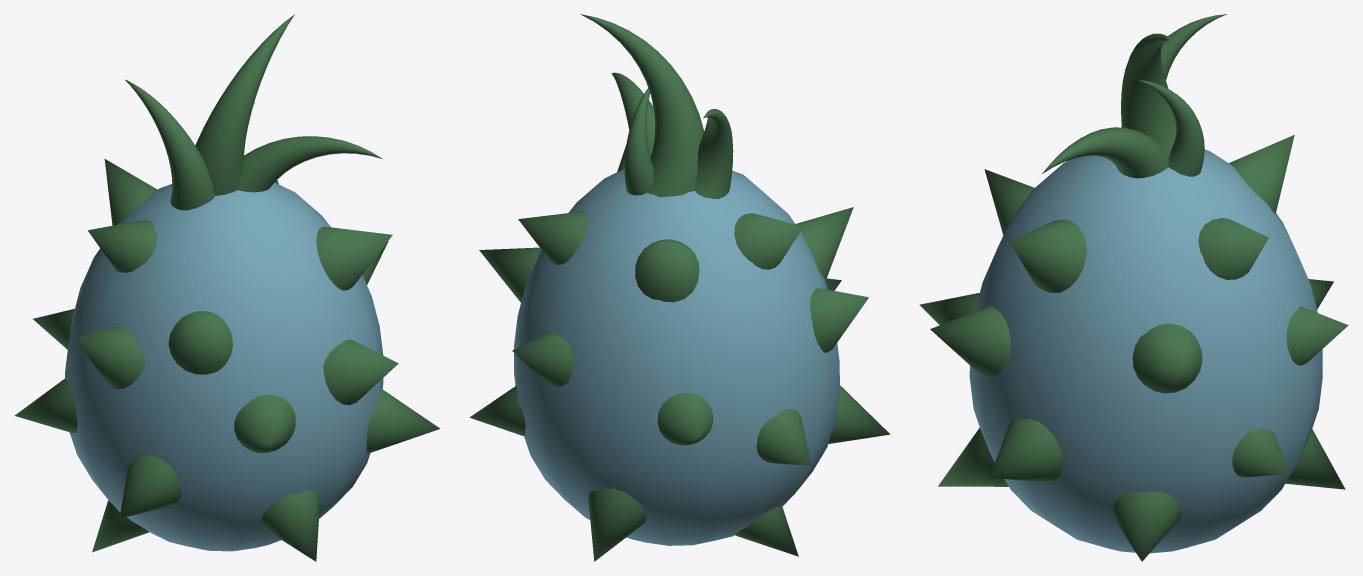
The model's file is Fruta_blocking.fbx.
3 views of the same model, side by side, from view 1: azimuth 30°, elevation 25°; view 2: azimuth 150°, elevation 25°; view 3: azimuth 270°, elevation 25° (orthographic). The views are drawn at different scales.
Visible parts, largest first — view 1: pSphere3, pCone144, pCone147, pCone146, pCone158, pCone163, pCone162, pCone159, pCone157, pCone160, pCone161, pCone165 (+5 smaller); view 2: pSphere3, pCone144, pCone152, pCone151, pCone147, pCone156, pCone155, pCone153, pCone154, pCone157, pCone150, pCone145 (+6 smaller); view 3: pSphere3, pCone144, pCone163, pCone148, pCone162, pCone165, pCone146, pCone164, pCone155, pCone145, pCone152, pCone150 (+6 smaller).
Part boxes in pixels (box(x1,y1,x2,y2)): pSphere3: box(65, 182, 383, 551); pCone144: box(195, 14, 294, 195); pCone147: box(125, 79, 214, 210); pCone146: box(237, 136, 382, 192); pCone158: box(168, 311, 232, 374); pCone163: box(316, 226, 392, 290); pCone162: box(323, 339, 398, 405); pCone159: box(234, 394, 295, 452); pCone157: box(76, 326, 144, 389); pCone160: box(119, 455, 181, 518); pCone161: box(261, 490, 320, 561); pCone165: box(366, 388, 440, 453); pSphere3: box(514, 169, 839, 545); pCone144: box(580, 14, 704, 197); pCone152: box(635, 239, 699, 302); pCone151: box(588, 489, 646, 561); pCone147: box(694, 109, 733, 198); pCone156: box(734, 213, 803, 269); pCone155: box(518, 211, 588, 264); pCone153: box(657, 392, 713, 445); pCone154: box(756, 409, 811, 465); pCone157: box(810, 288, 868, 352); pCone150: box(512, 332, 573, 386); pCone145: box(624, 88, 653, 195); pSphere3: box(969, 149, 1322, 553); pCone144: box(1121, 33, 1176, 158); pCone163: box(1009, 219, 1086, 292); pCone148: box(1132, 323, 1202, 393); pCone162: box(930, 306, 1010, 378); pCone165: box(989, 418, 1062, 482); pCone146: box(1042, 127, 1168, 178); pCone164: box(1111, 491, 1181, 561); pCone155: box(1198, 218, 1268, 279); pCone145: box(1136, 79, 1204, 176); pCone152: box(1229, 135, 1294, 213); pCone150: box(1286, 307, 1348, 365).
Bounding box in the file's own units: 0.8301 × 1.12 × 0.8044.
